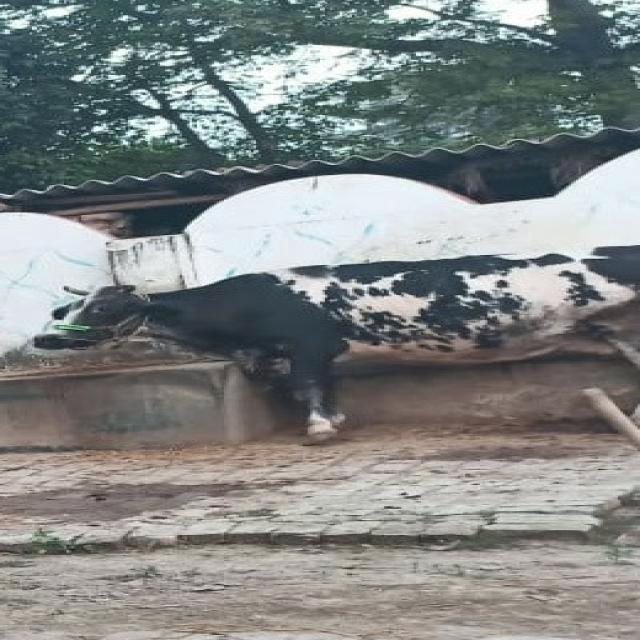cow: (34, 246, 640, 434)
